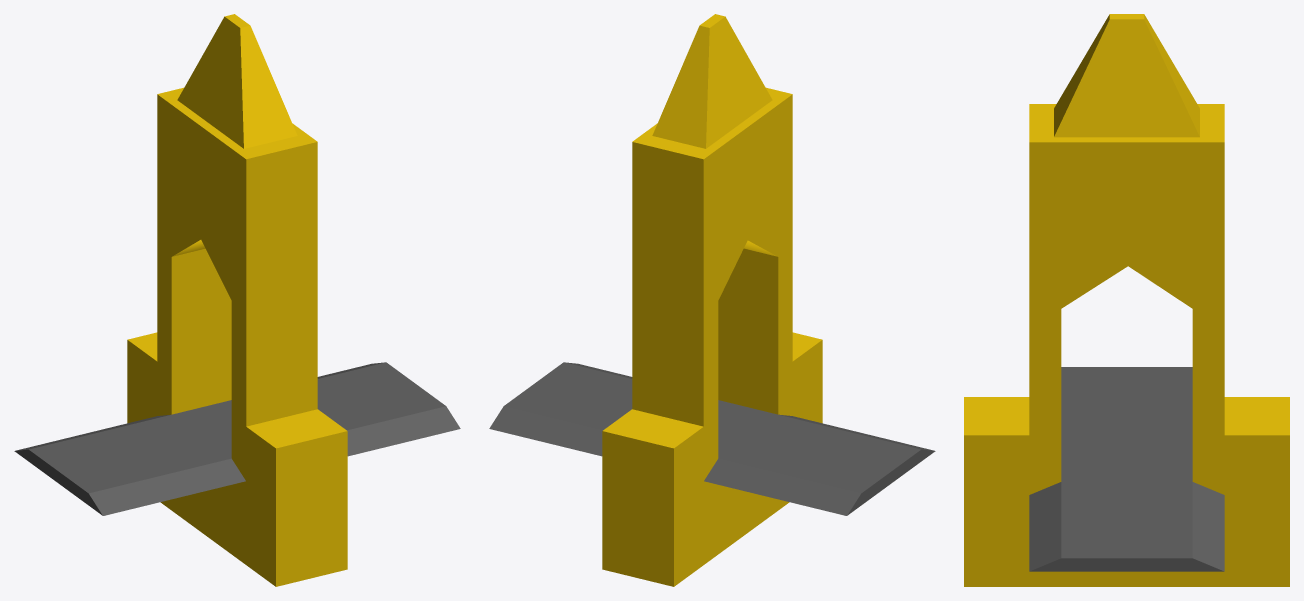
File: Bidges2.fbx
3 renders of one model, left to right at view 1: azimuth 30°, elevation 25°; view 2: azimuth 150°, elevation 25°; view 3: azimuth 270°, elevation 25°, orthographic. The views are drawn at different scales.
Visible parts, largest first — view 1: Bridges2; view 2: Bridges2; view 3: Bridges2.
Boxes of the visible parts, left/top/right/bottom form: Bridges2: left=14, top=14, right=460, bottom=586; Bridges2: left=489, top=14, right=935, bottom=586; Bridges2: left=964, top=14, right=1289, bottom=586.
Size of the model in its own units: 419 by 563 by 302.
